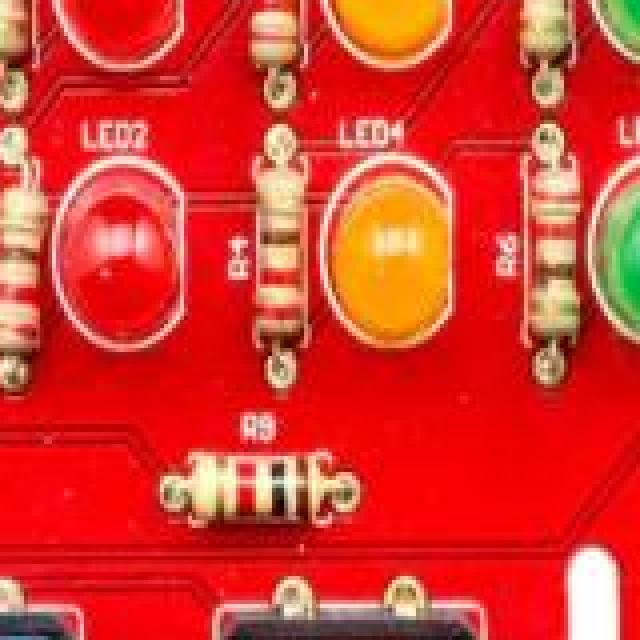LED: (332, 152, 464, 364), (72, 168, 182, 338), (48, 0, 196, 84), (328, 0, 448, 76), (596, 140, 640, 344), (600, 0, 640, 60)
resistor: (248, 160, 310, 350), (164, 456, 336, 522), (520, 160, 580, 342), (0, 168, 48, 368), (244, 0, 312, 68), (520, 0, 580, 72), (0, 0, 40, 60)
switch: (208, 600, 484, 640), (0, 608, 80, 640)
